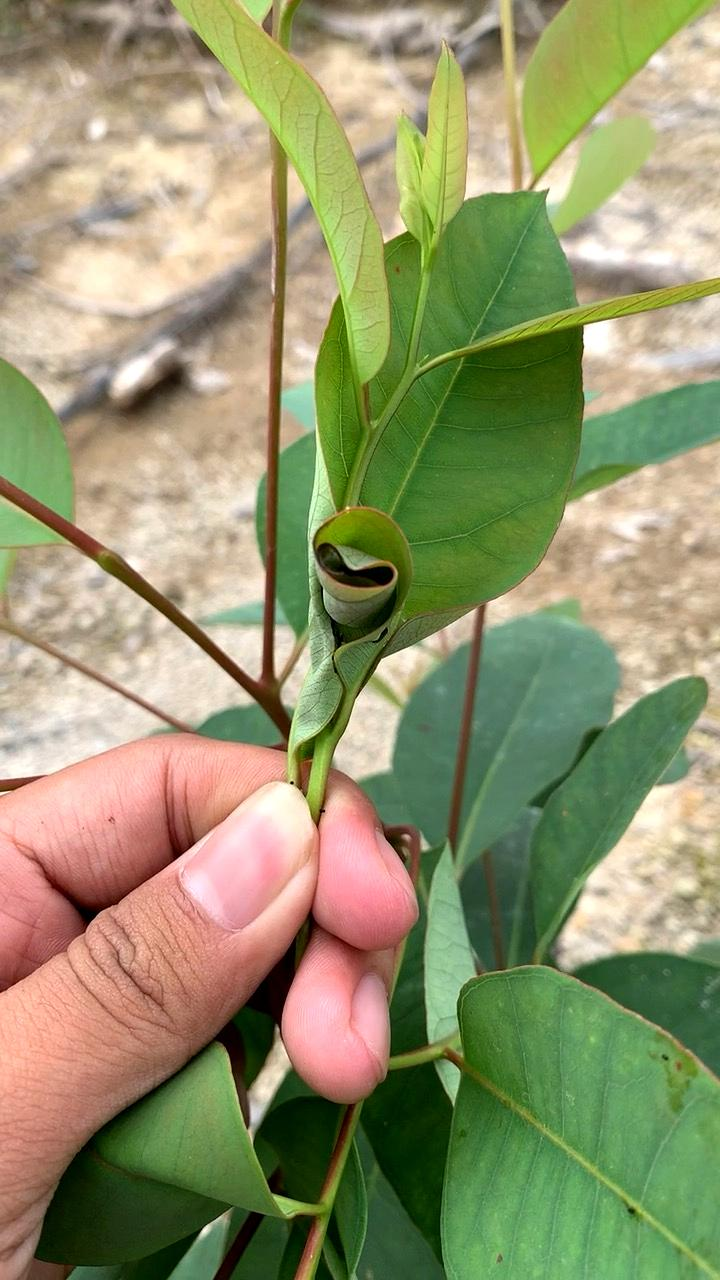Leaf Roller - Leaf: (209, 493, 501, 728)
